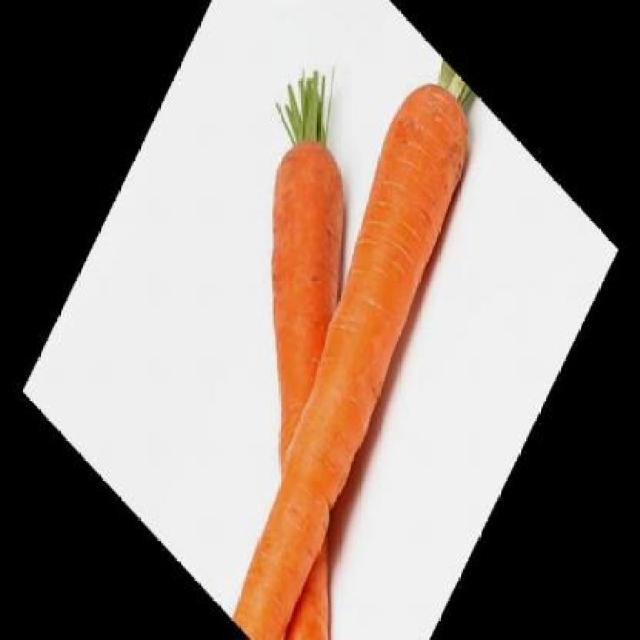carrot: (117, 116, 503, 638), (178, 58, 516, 639)
